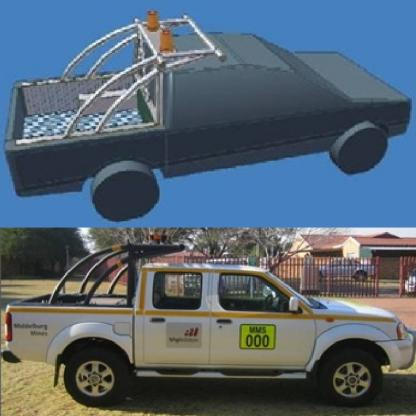light_vehicle: (6, 242, 415, 404)
